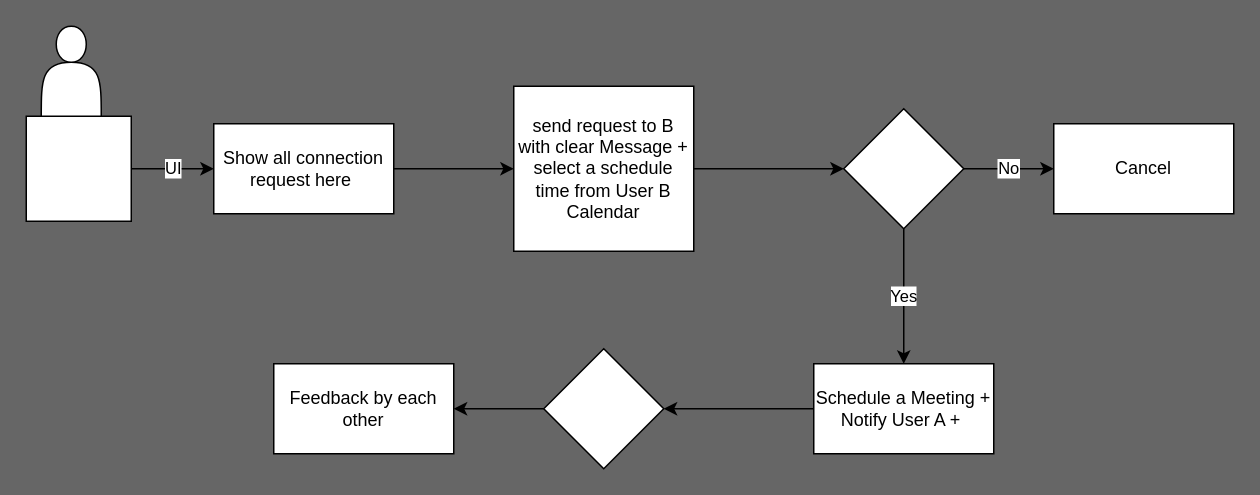
Image size: 1260x495. Some labels were removed from this diagram. Each missing label, with the centre of its shape:
"Meeting success" belongs at (x=603, y=408).
"Request Accept" belongs at (x=903, y=168).
"User A" belongs at (x=78, y=168).
